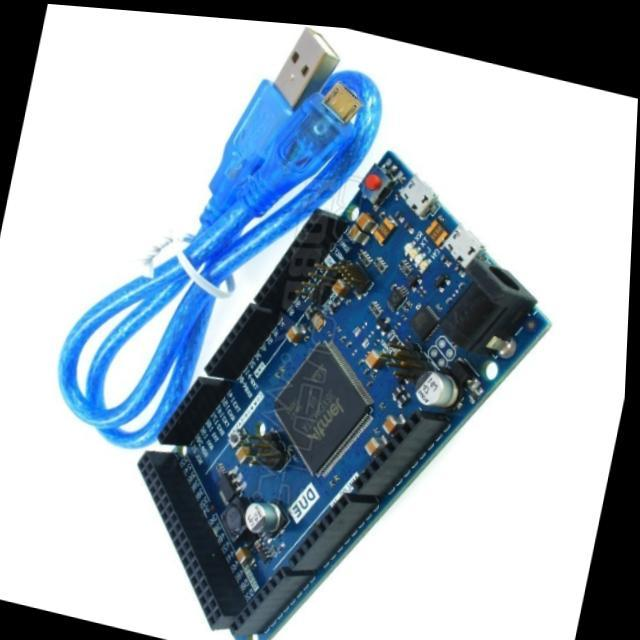Arduino-Due: (139, 152, 549, 640)
